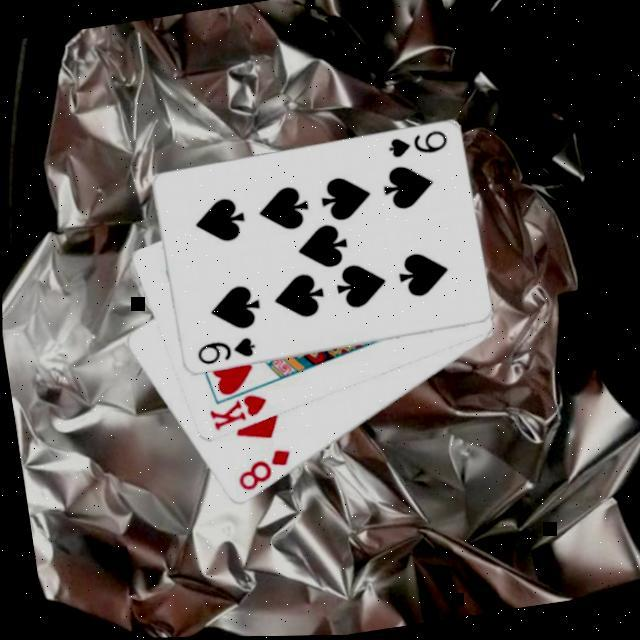8D: (229, 448, 296, 499)
9S: (190, 336, 257, 373), (382, 129, 449, 166)
KH: (201, 391, 270, 438)
